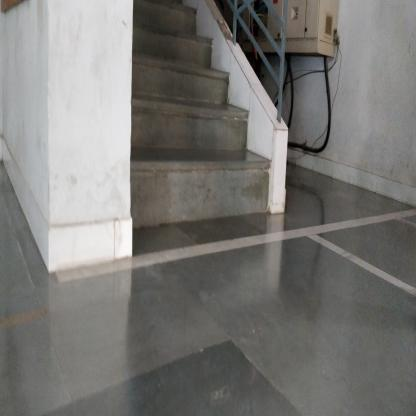stairs: (137, 14, 202, 236)
